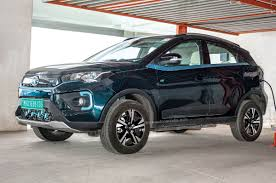Tata Nexon: (13, 33, 265, 155)
